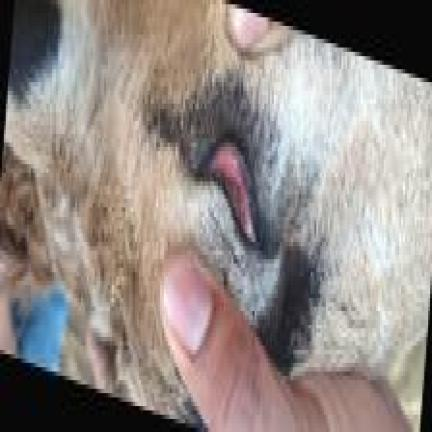goat-eye-anemia-22222222: (195, 130, 273, 254)
